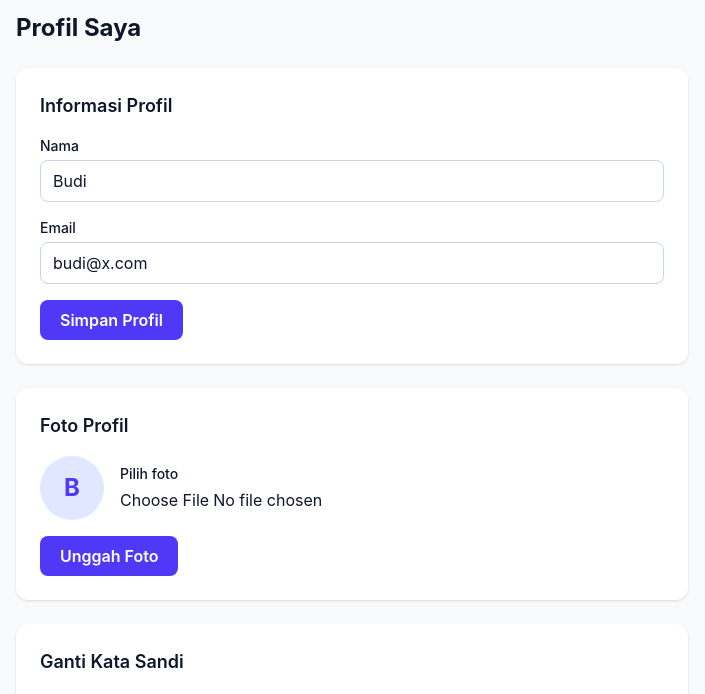
Test: ProfilePage - ubah profil › menampilkan pesan error jika nama dan email dikosongkan
Clear the field labelled "Nama": coordinates (352, 181) [40,160,664,202]
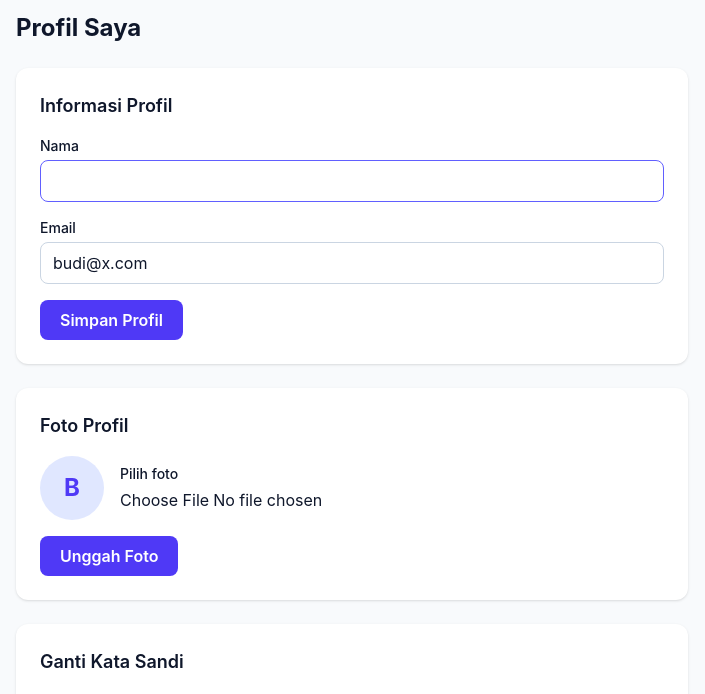
Clear the field labelled "Email": coordinates (352, 263) [40,242,664,284]
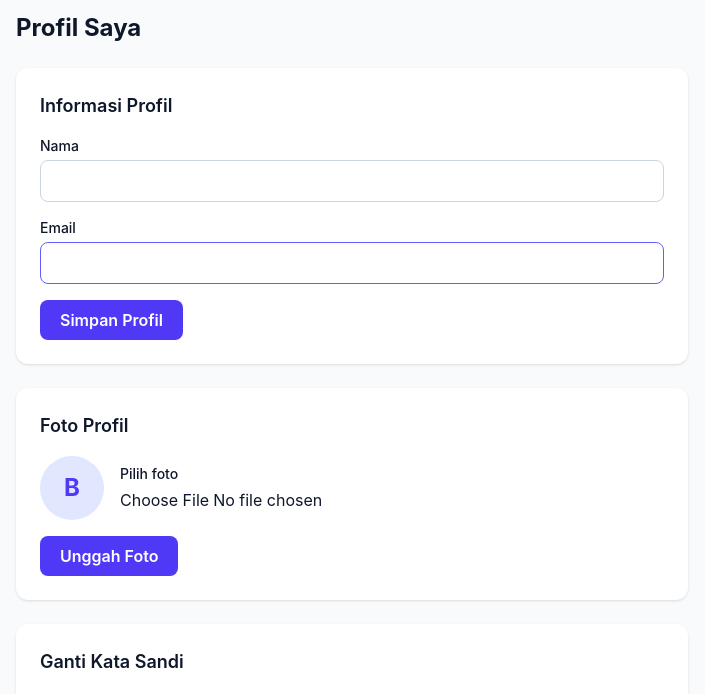
Click the button "Simpan Profil": coordinates (111, 320) [40,300,183,340]
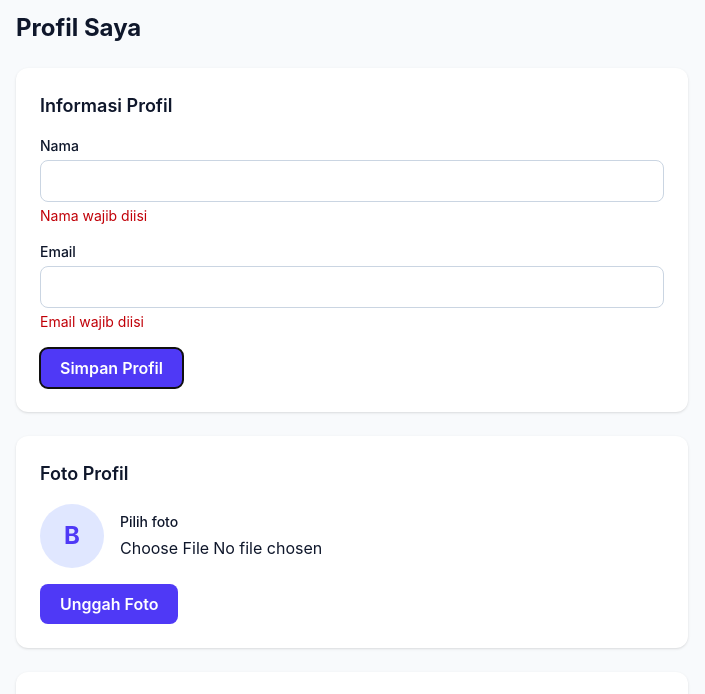
Expected: the text "Nama wajib diisi" is shown, [40,207,147,224]
Expected: the text "Email wajib diisi" is shown, [40,313,144,330]
